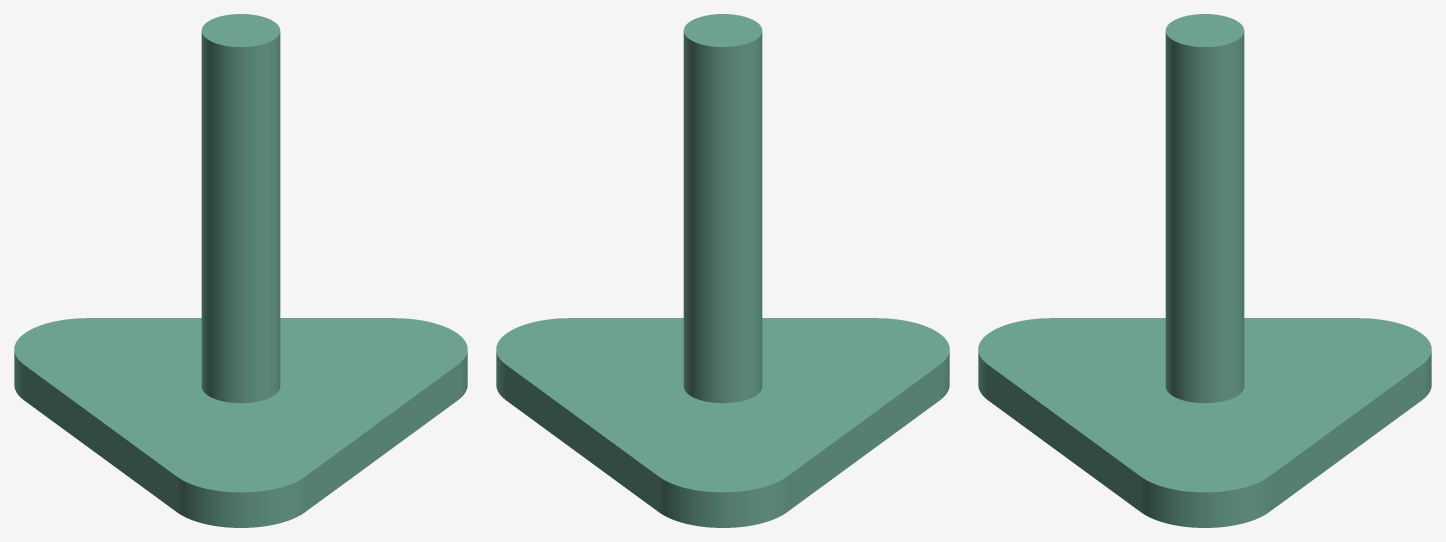
Rendered from step_14.glb.
3 views of the same model, side by side, from view 1: azimuth 30°, elevation 25°; view 2: azimuth 150°, elevation 25°; view 3: azimuth 270°, elevation 25° (orthographic).
Visible parts, largest first — view 1: part__carrier; view 2: part__carrier; view 3: part__carrier.
Boxes of the visible parts, box(x1,y1,x2,y2) form: part__carrier: box(14, 14, 467, 527); part__carrier: box(496, 14, 949, 527); part__carrier: box(978, 14, 1431, 527).
Bounding box in the file's own units: 41.99 × 44 × 46.17.
